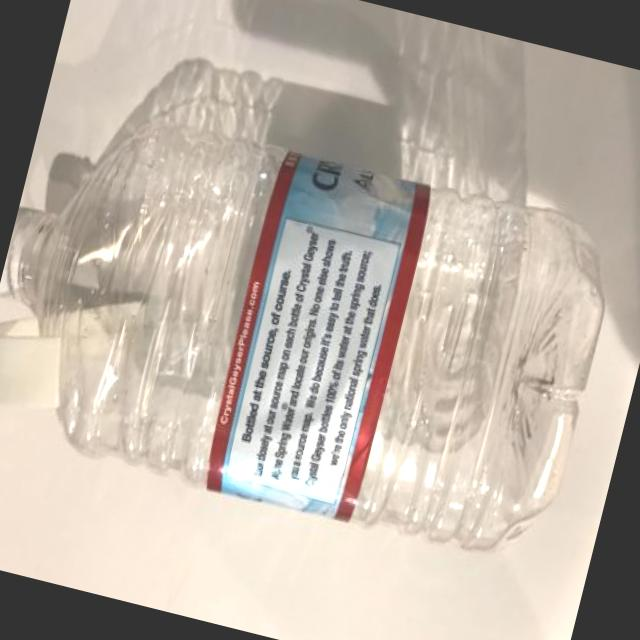Recycle: (0, 88, 626, 571)
